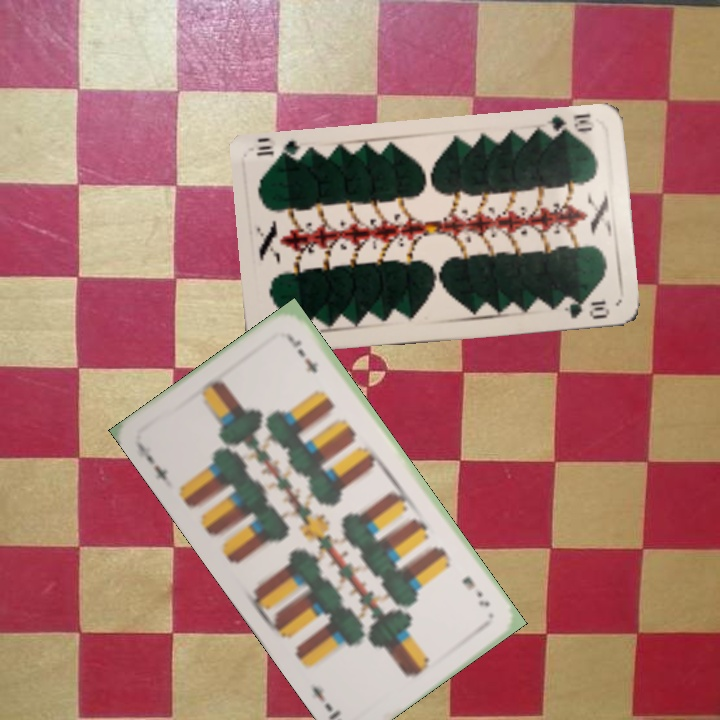E7: (458, 572, 493, 610), (141, 449, 171, 484)
G10: (541, 109, 597, 139)
